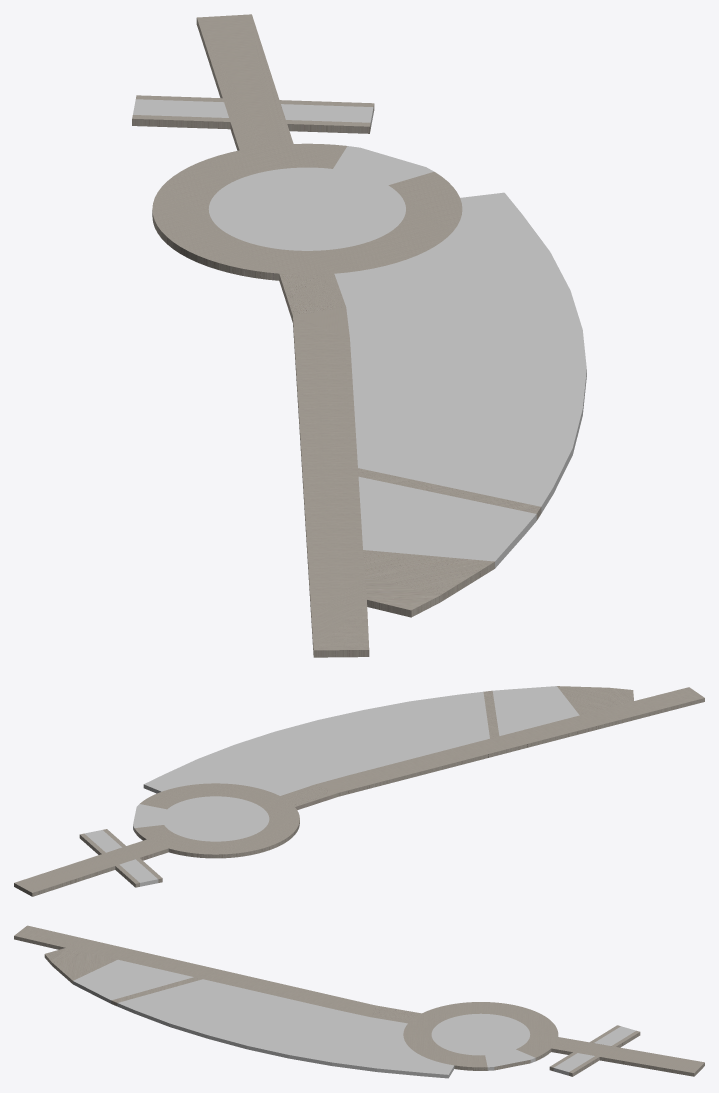
The model's file is campus.fbx.
3 views of the same model, one above another, from view 1: azimuth 30°, elevation 25°; view 2: azimuth 150°, elevation 25°; view 3: azimuth 270°, elevation 25° (orthographic). The views are drawn at different scales.
Parts seen in each view (by area): view 1: GrassAndWalkway2; view 2: GrassAndWalkway2; view 3: GrassAndWalkway2.
Part boxes in pixels (left/top/right/bottom): GrassAndWalkway2: left=132, top=14, right=586, bottom=657; GrassAndWalkway2: left=14, top=686, right=704, bottom=896; GrassAndWalkway2: left=14, top=925, right=704, bottom=1078.
Bounding box in the file's own units: 88.94 × 1.11 × 174.
